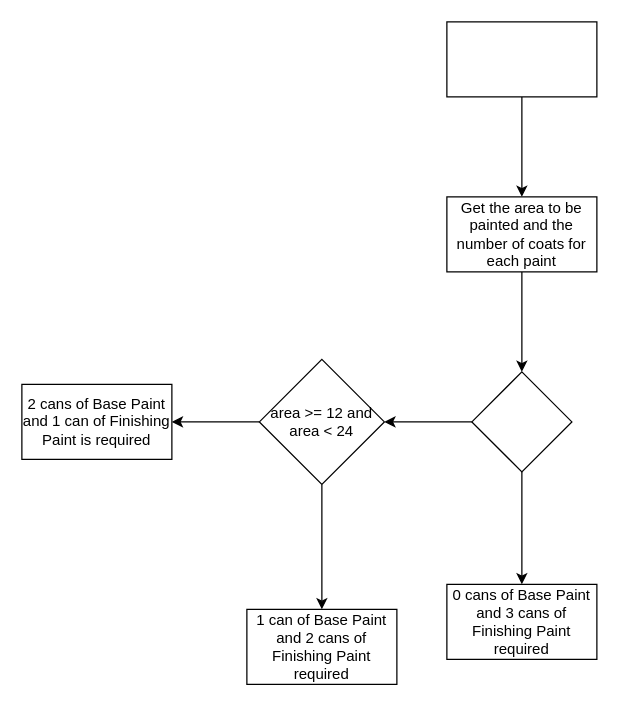
Image size: 619x706. Some labels were removed from this diagram. The shapes that lost their labels are listed below. From the top down, each one's box as (x1, y1, x2, y2) in pixels, then its label:
(446, 21, 597, 97): Start
(471, 371, 572, 472): area < 12
